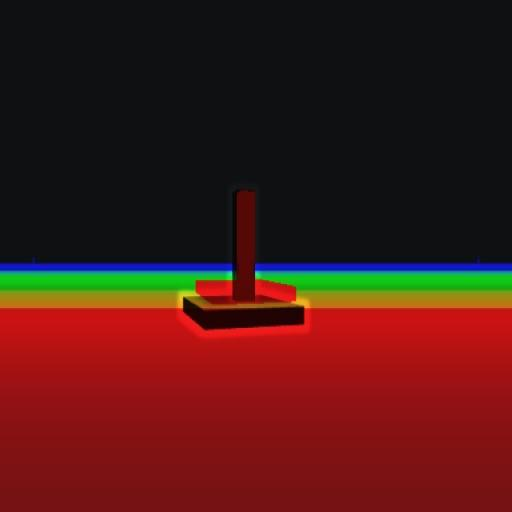platform: (182, 192, 306, 332)
